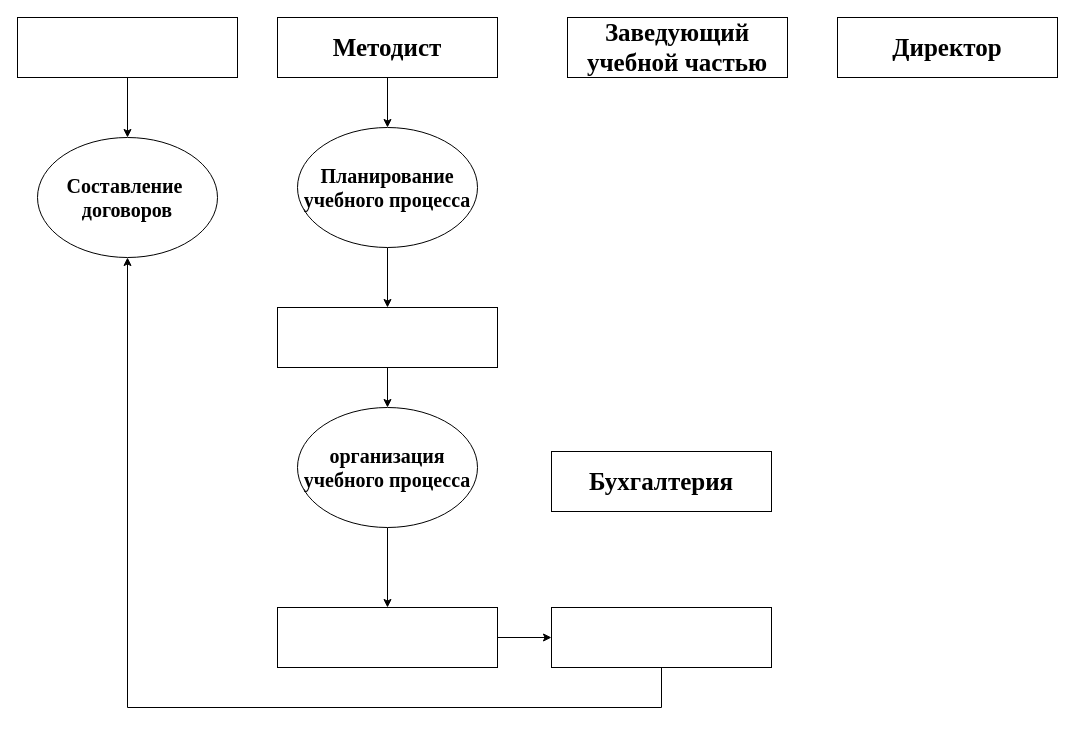
Image size: 1075x733. Some labels were removed from this diagram. The box of each missing label's shape, as (x1, y1, x2, y2) in pixels:
Администрация: (16, 16, 238, 78)
Данные о учениках: (550, 606, 772, 668)
Преподаватель: (276, 306, 498, 368)
Ученик: (276, 606, 498, 668)
